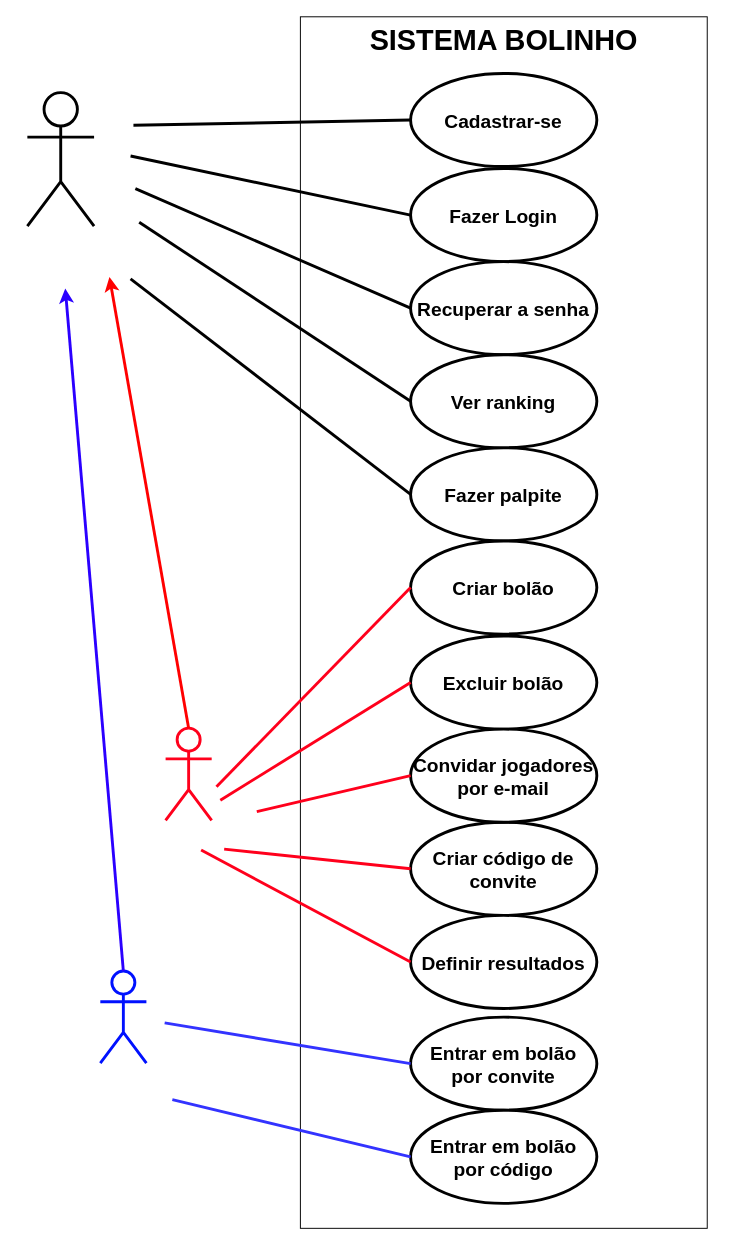
The diagram is 743 pixels wide and 1245 high, and some of its shapes have lost their labels. The centre of each missing label's shape, as x and y in pixels:
"CRIADOR DO BOLÃO" goes at [188,773].
"PARTICIPANTE DO BOLÃO" goes at [122,1016].
"USUÁRIO" goes at [60,159].
